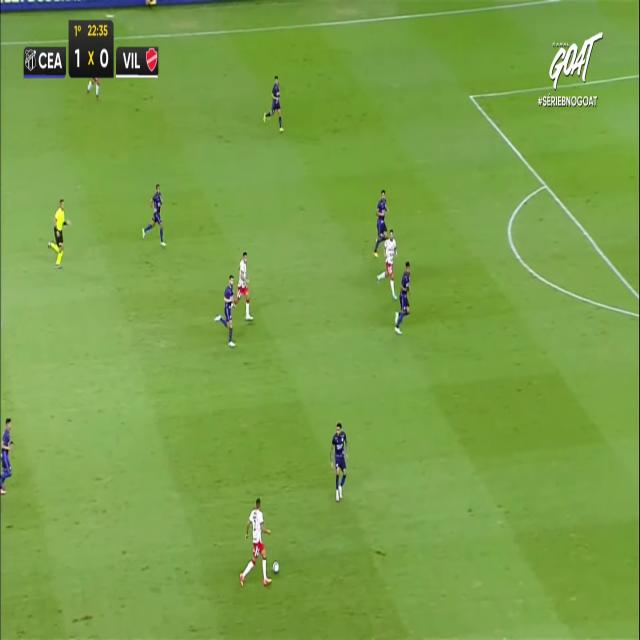ball: (270, 559, 280, 576)
player: (240, 497, 272, 587), (214, 273, 236, 347), (142, 183, 166, 246), (376, 228, 397, 298), (330, 421, 348, 501), (235, 248, 254, 320), (263, 74, 284, 132), (395, 260, 411, 333), (375, 189, 389, 269), (0, 416, 14, 493), (85, 74, 102, 101)
referee: (47, 198, 70, 267)
